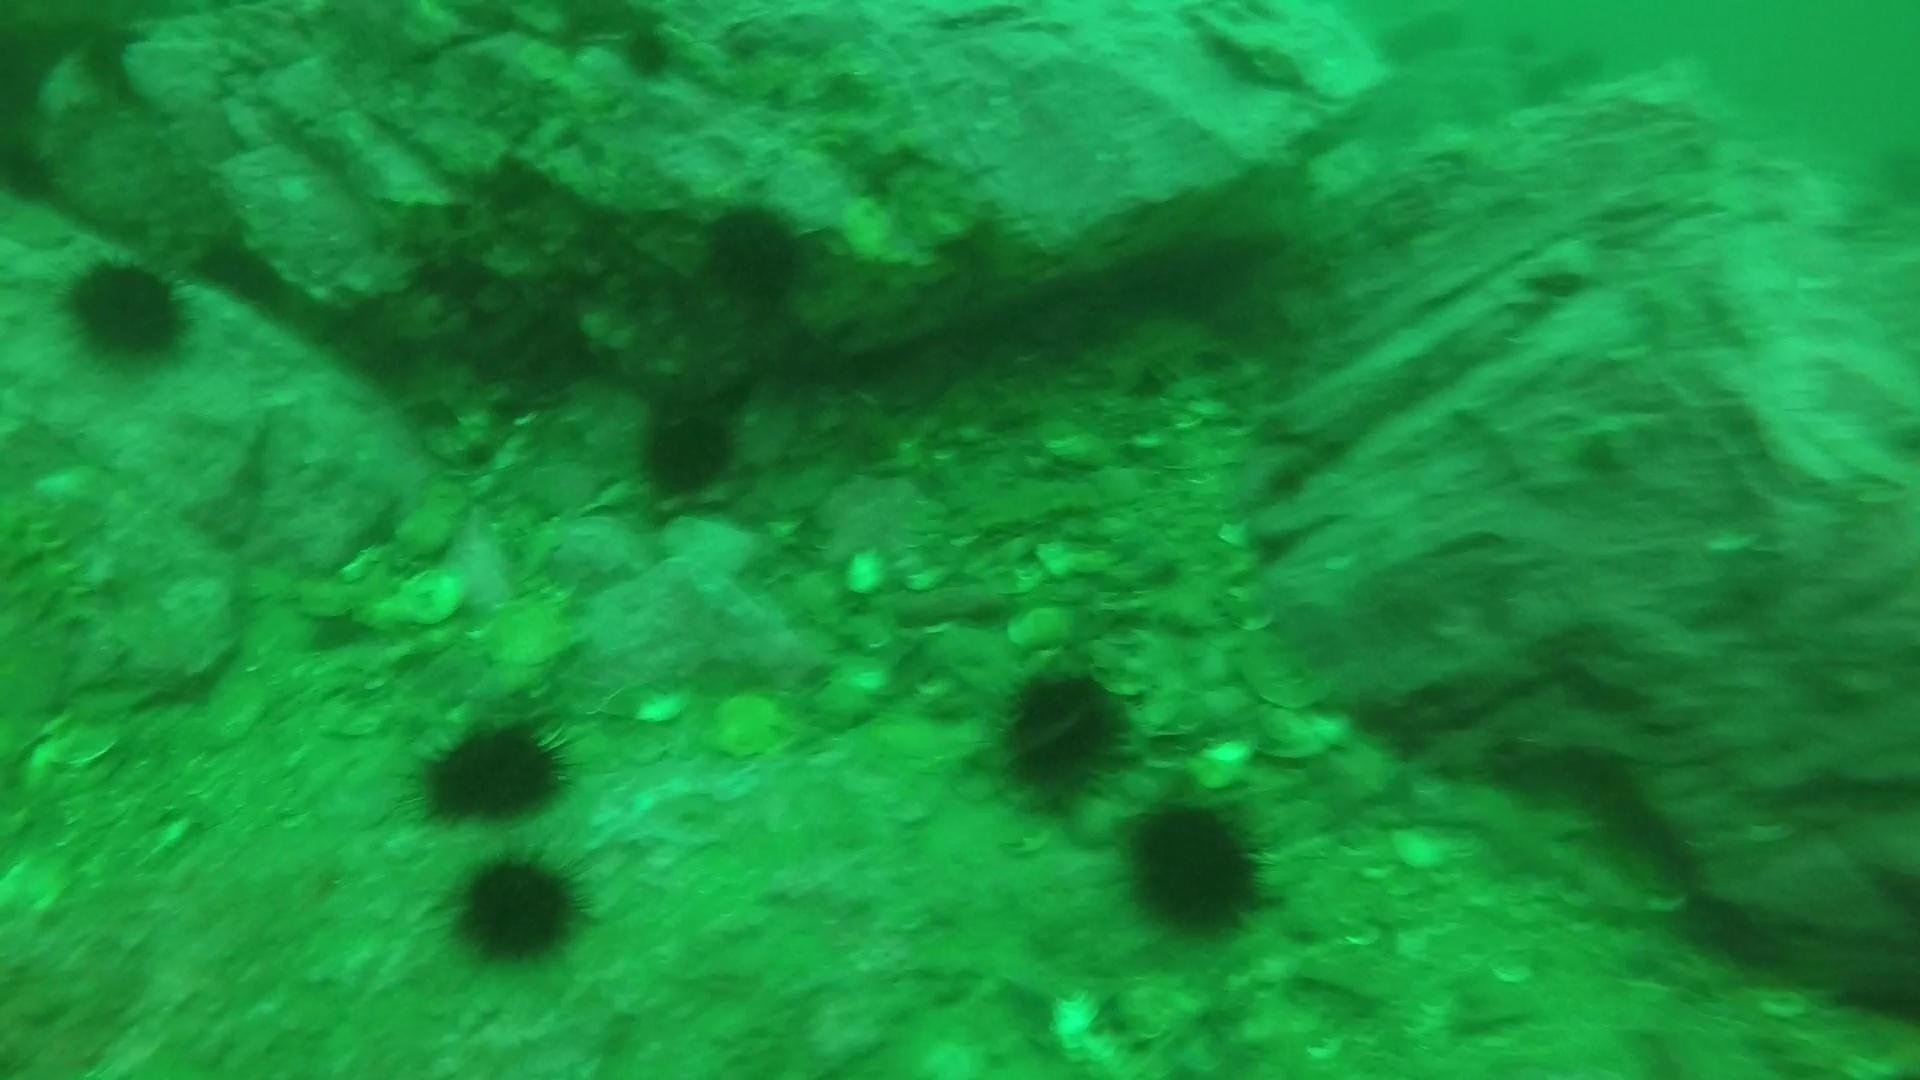echinus: (1112, 789, 1276, 943), (982, 655, 1139, 814), (404, 708, 578, 832), (443, 843, 593, 971), (54, 247, 198, 371), (696, 195, 816, 309), (629, 393, 745, 504)
